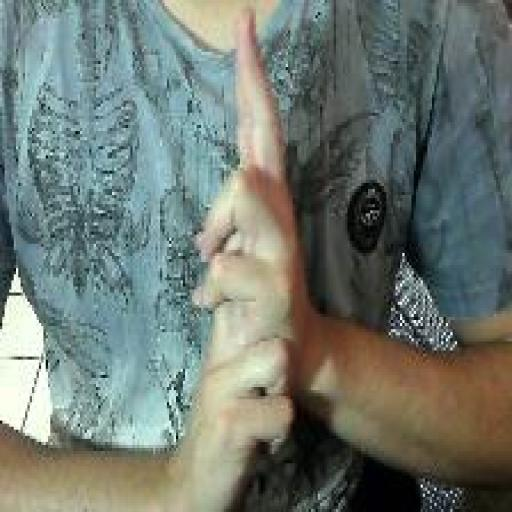Hitsuji -ram-: (188, 4, 303, 504)
